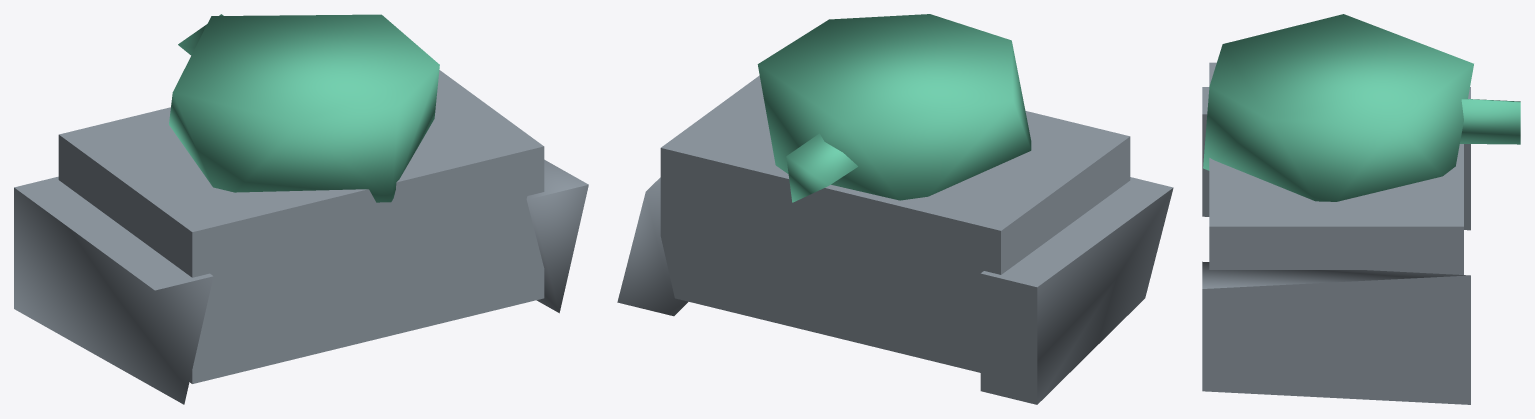
File: CO_KamakiriWalker_LOD2.glb
3 renders of one model, left to right at view 1: azimuth 30°, elevation 25°; view 2: azimuth 150°, elevation 25°; view 3: azimuth 270°, elevation 25°, orthographic. The views are drawn at different scales.
Visible parts, largest first — view 1: Chassis; view 2: Chassis; view 3: Chassis.
Part boxes in pixels (bbox=[...]): Chassis: bbox=[14, 14, 588, 404]; Chassis: bbox=[617, 14, 1173, 404]; Chassis: bbox=[1202, 14, 1520, 404].
Size of the model in its own units: 388 by 208 by 259.
